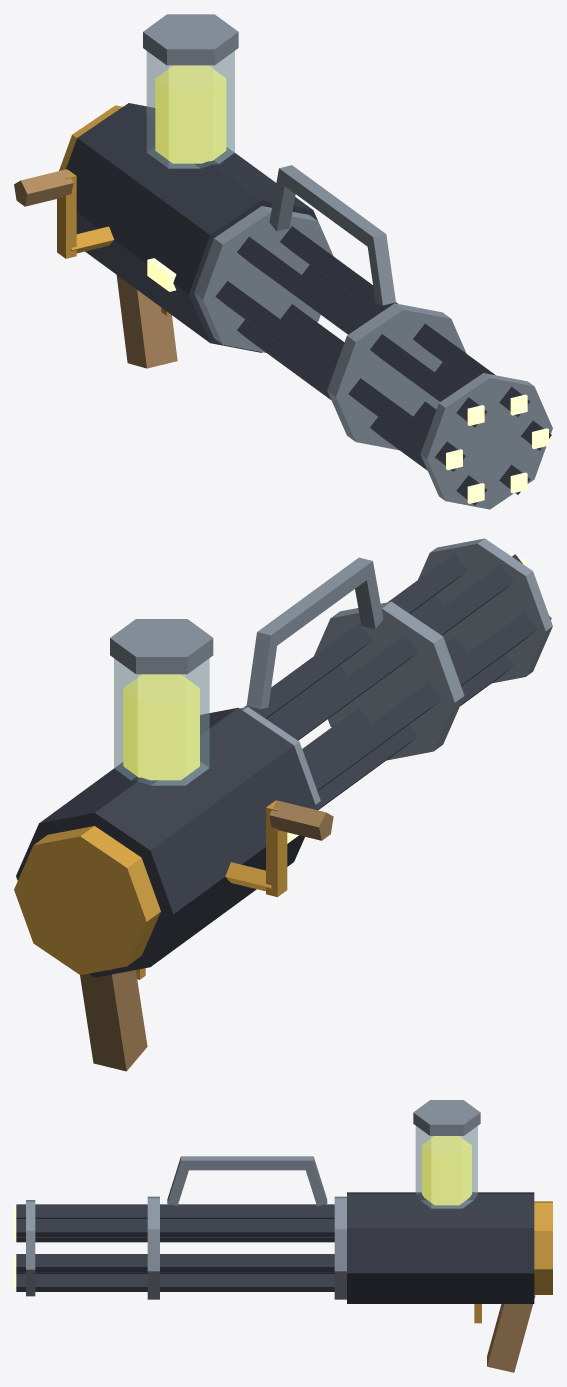
File: Wpn_Blaster_CrankGatling.fbx
The picture shows the model from 3 angles, top to bottom: view 1: azimuth 30°, elevation 25°; view 2: azimuth 150°, elevation 25°; view 3: azimuth 270°, elevation 25°; orthographic projection. The views are drawn at different scales.
Visible parts, largest first — view 1: Wpn_Blaster_CrankGatling_Barrels, Wpn_Blaster_CrankGatling_Body, Wpn_Blaster_CrankGatling_Crank; view 2: Wpn_Blaster_CrankGatling_Body, Wpn_Blaster_CrankGatling_Barrels, Wpn_Blaster_CrankGatling_Crank; view 3: Wpn_Blaster_CrankGatling_Body, Wpn_Blaster_CrankGatling_Barrels.
Part boxes in pixels (<box>): Wpn_Blaster_CrankGatling_Barrels: <box>194,206,552,509</box>; Wpn_Blaster_CrankGatling_Body: <box>59,14,395,368</box>; Wpn_Blaster_CrankGatling_Crank: <box>14,169,114,258</box>; Wpn_Blaster_CrankGatling_Body: <box>14,557,383,1071</box>; Wpn_Blaster_CrankGatling_Barrels: <box>240,538,552,810</box>; Wpn_Blaster_CrankGatling_Crank: <box>225,800,333,896</box>; Wpn_Blaster_CrankGatling_Body: <box>167,1100,552,1372</box>; Wpn_Blaster_CrankGatling_Barrels: <box>14,1196,346,1299</box>.
Size of the model in its own units: 0.305 by 0.4513 by 0.864.
